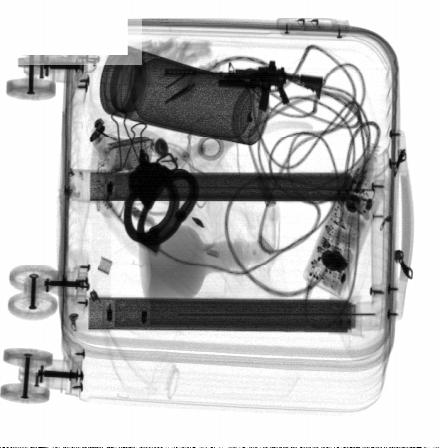Gun: (165, 58, 324, 112)
HandCuffs: (124, 146, 199, 257)
